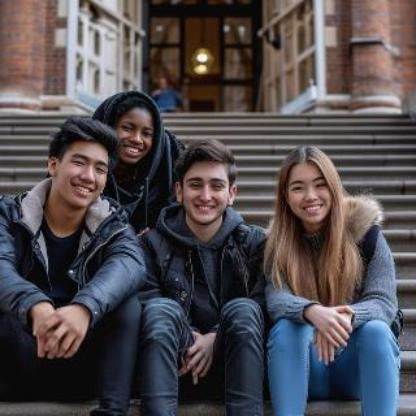person: (0, 116, 143, 416), (259, 143, 405, 416), (138, 137, 272, 416)
